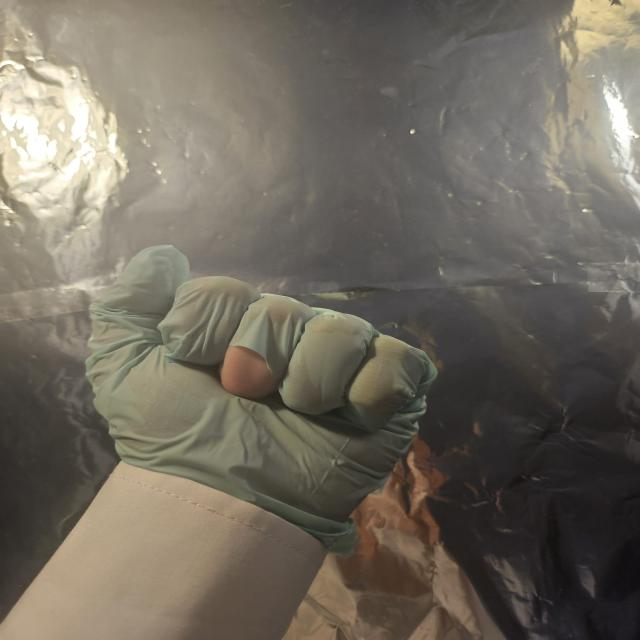gloves_damaged: (82, 243, 438, 558)
